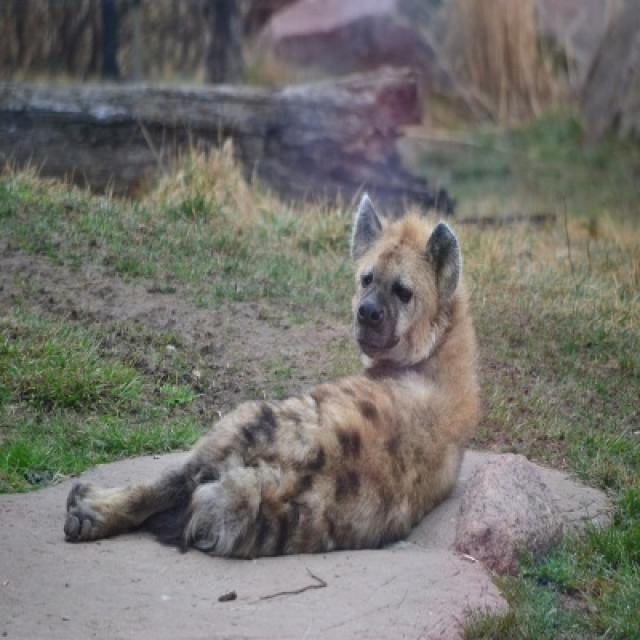hyena: (64, 194, 483, 562)
